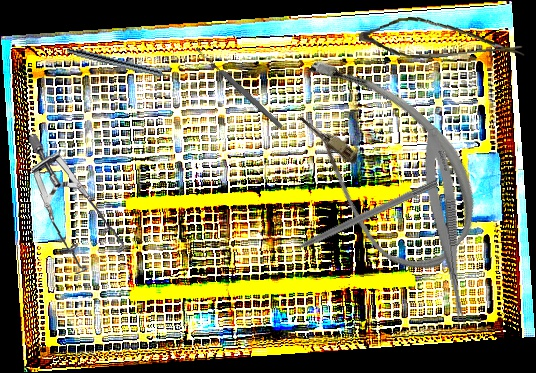Cannula: (250, 37, 507, 288)
Handpiece: (65, 45, 182, 85)
Hook Surgical: (276, 177, 439, 261)
Micro Scissor: (416, 126, 479, 330), (357, 5, 528, 73)
Speculum: (22, 133, 134, 277)
Surgical Spoon: (194, 45, 284, 130)
